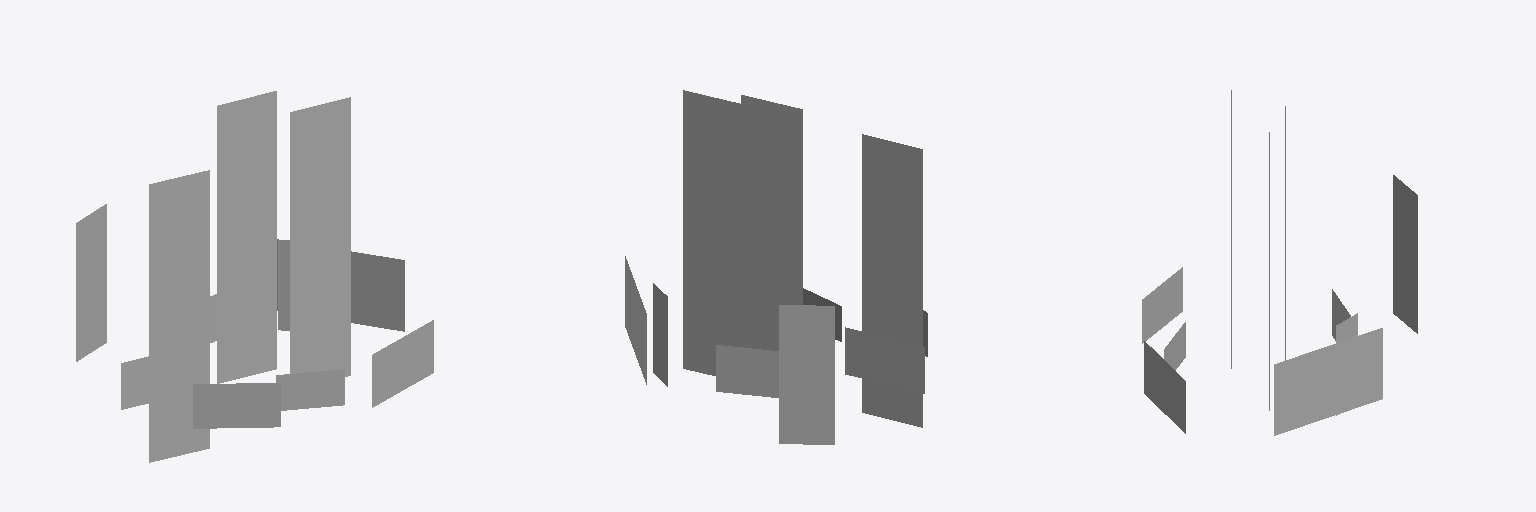
The model's file is skoplenie_travy.obj.
3 views of the same model, side by side, from view 1: azimuth 30°, elevation 25°; view 2: azimuth 150°, elevation 25°; view 3: azimuth 270°, elevation 25° (orthographic).
Parts seen in each view (by area): view 1: Скопление_травы; view 2: Скопление_травы; view 3: Скопление_травы.
Boxes of the visible parts, <box> form: Скопление_травы: <box>76,91,433,462</box>; Скопление_травы: <box>625,90,927,444</box>; Скопление_травы: <box>1142,90,1417,435</box>.
Size of the model in its own units: 0.5811 by 0.5992 by 0.4755.